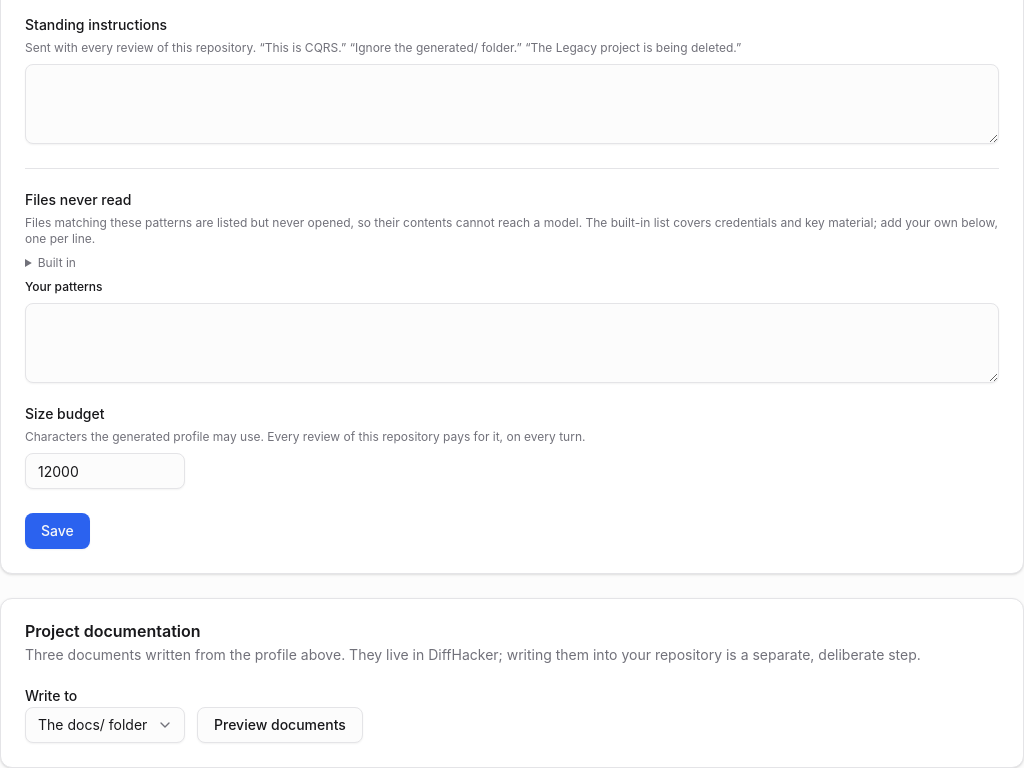
ProfileScreen › previews every documentation file before anything is written
(page scrolled)
Click the button "Preview documents".
click(280, 725)  # box [197,707,363,743]
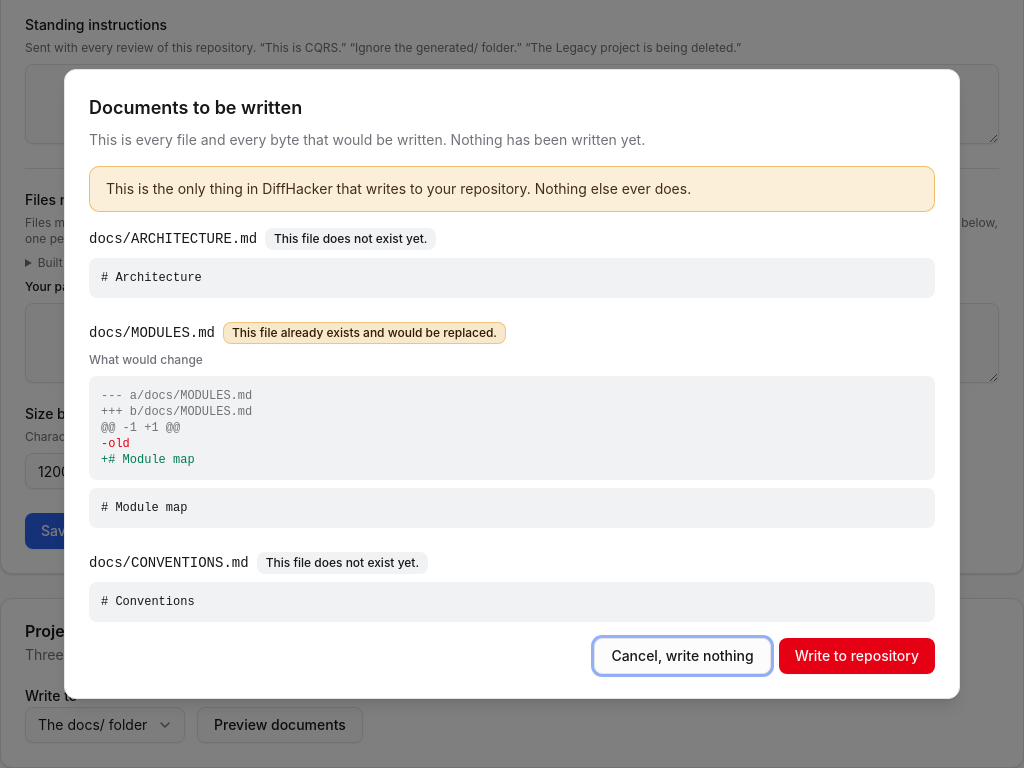
Now the heading "docs/ARCHITECTURE.md" is shown, box [89,229,257,249]
Now the text "# Architecture" is shown, box [89,258,935,298]
Now the heading "docs/MODULES.md" is shown, box [89,323,215,343]
